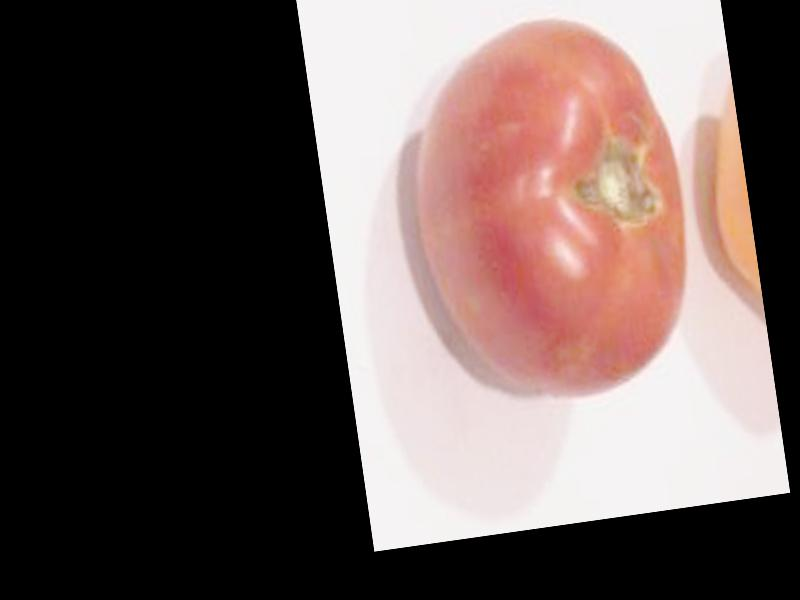Tomato: (397, 3, 705, 411)
